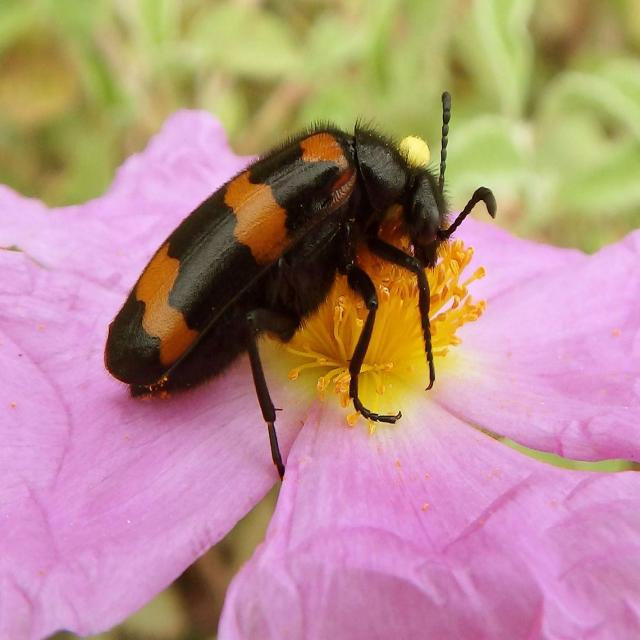BlisterBeetle-Adult-: (75, 82, 500, 480)
